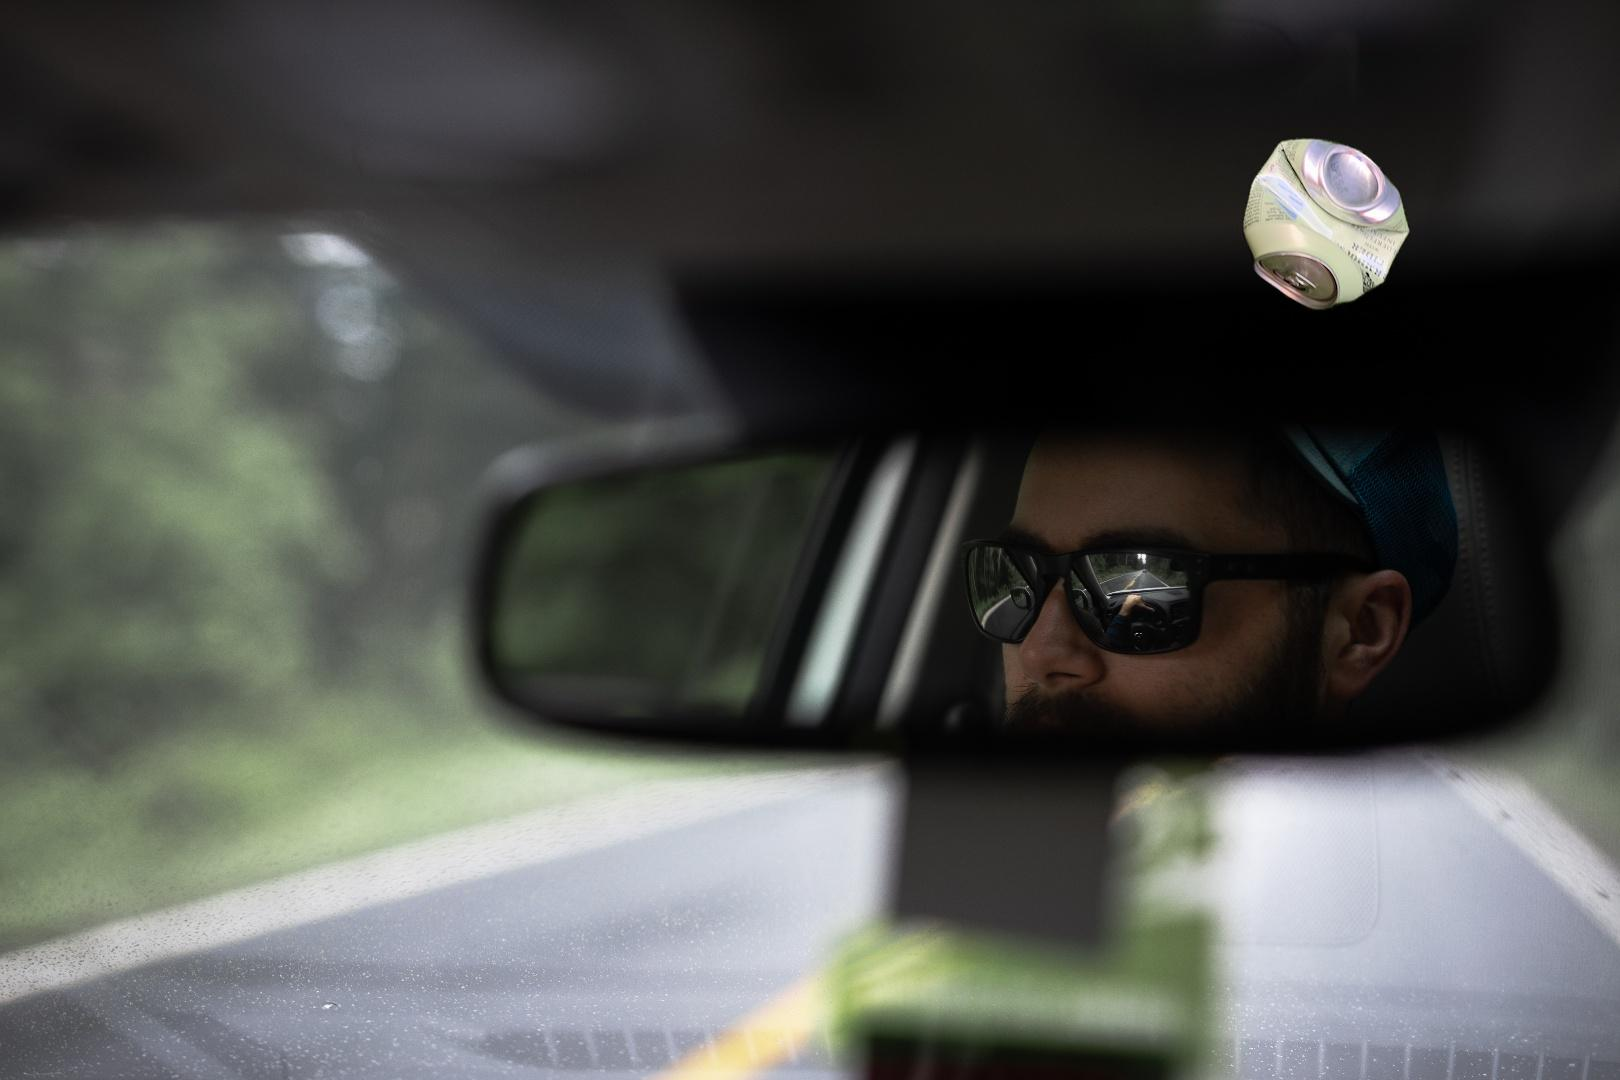metal-cans: (1238, 133, 1415, 317)
